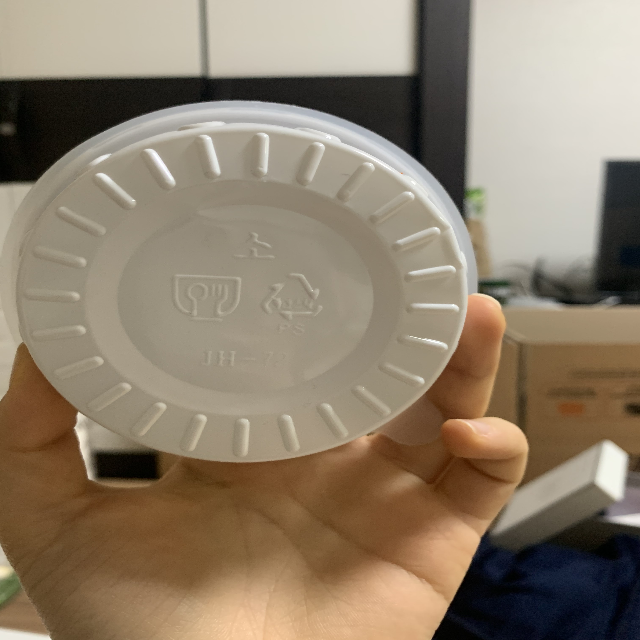ps: (260, 267, 324, 340)
